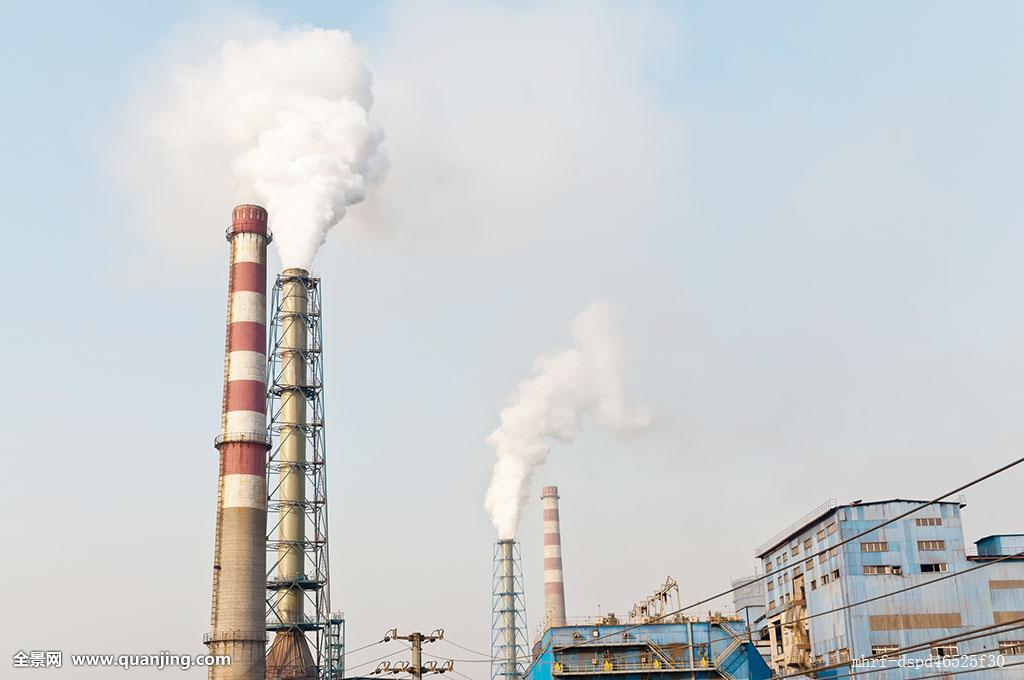dust: (164, 16, 385, 268), (476, 293, 664, 549)
